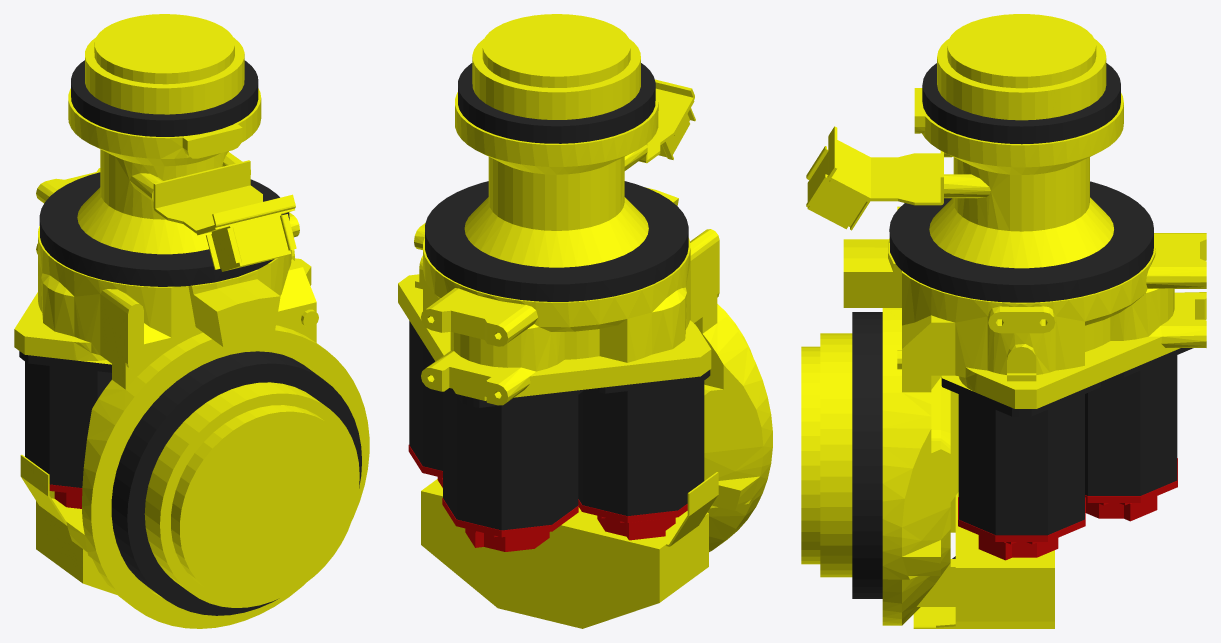
3 renders of one model, left to right at view 1: azimuth 30°, elevation 25°; view 2: azimuth 150°, elevation 25°; view 3: azimuth 270°, elevation 25°, orthographic. The views are drawn at different scales.
Parts seen in each view (by area): view 1: node; view 2: node; view 3: node.
Boxes of the visible parts, box(x1,y1,x2,y2) form: node: box(14, 14, 369, 628); node: box(398, 14, 772, 628); node: box(801, 14, 1206, 628).
Bounding box in the file's own units: 360 × 640 × 416.
